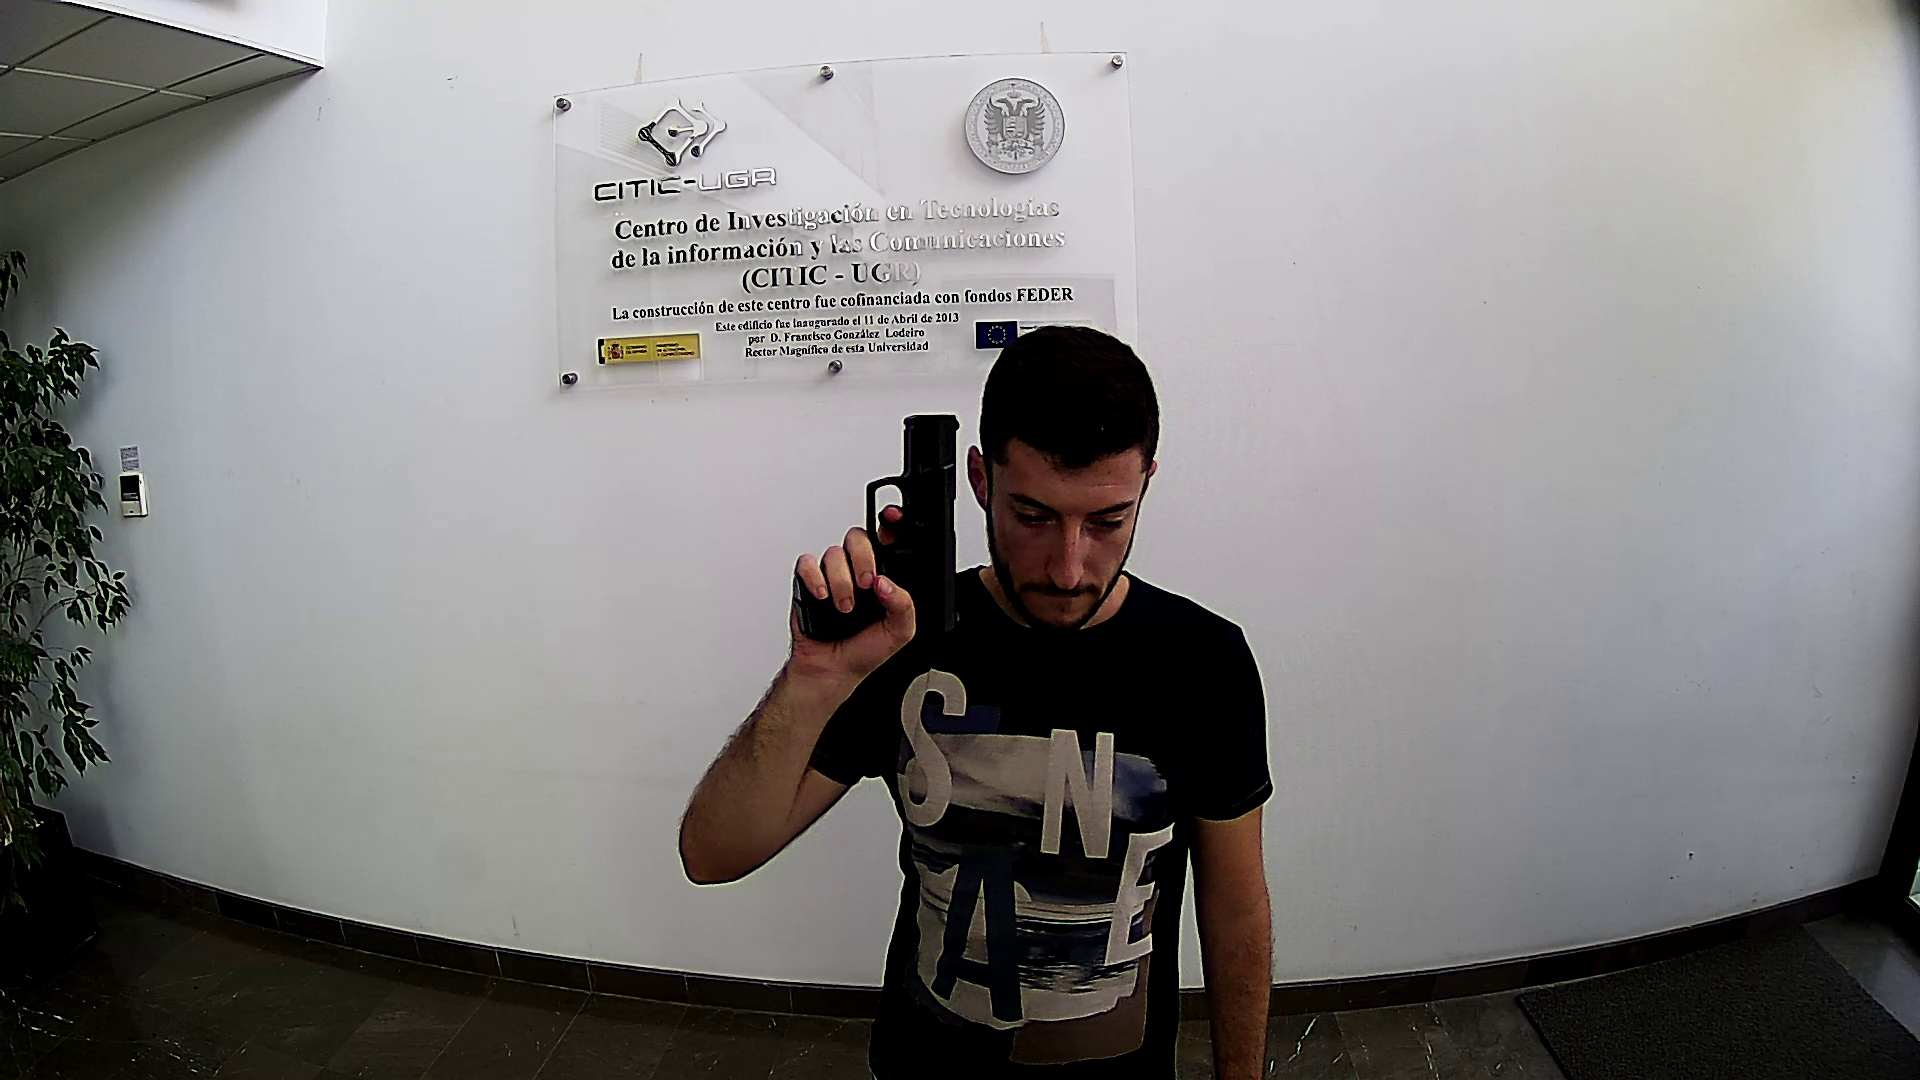pistol: (791, 411, 961, 647)
